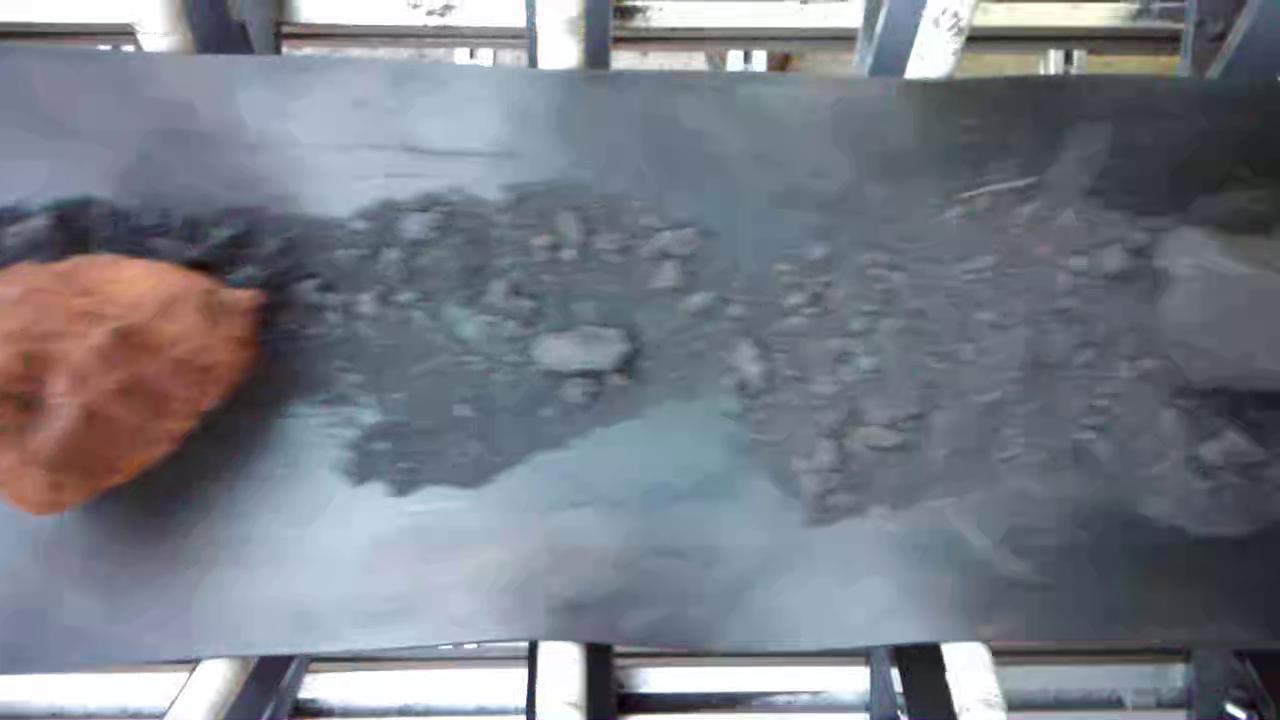conveyor: (6, 80, 1280, 630)
